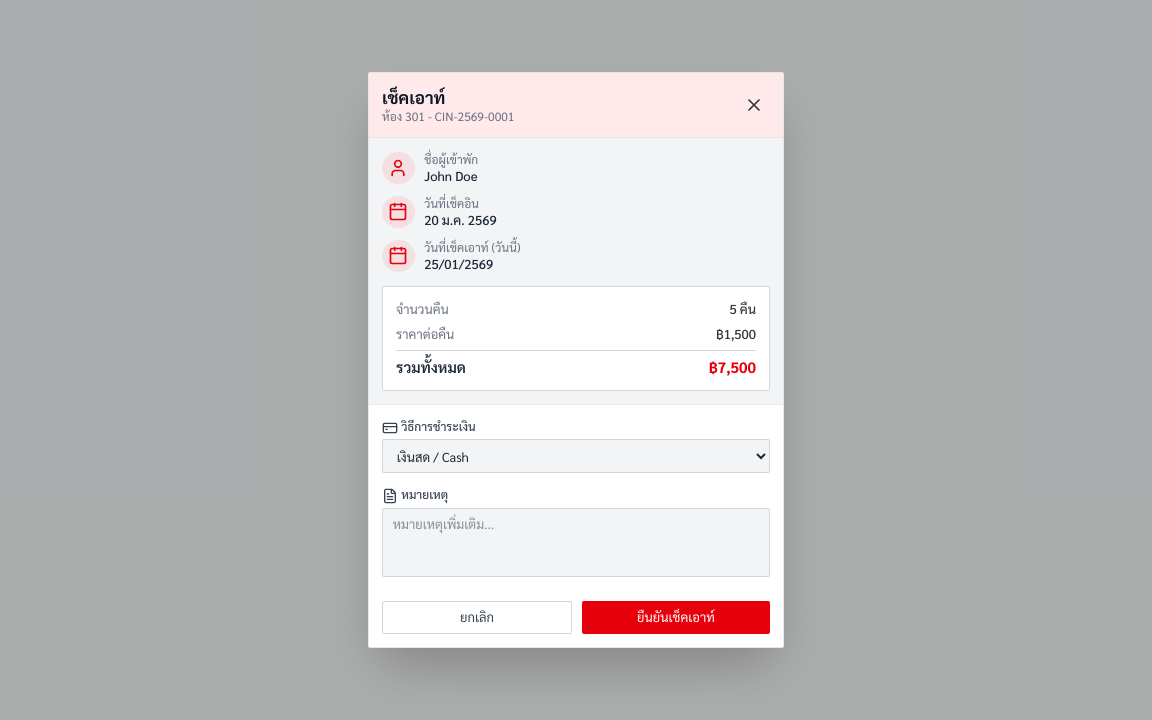
Test case: CheckOutModal Component › API Submission › shows error message on API failure
Click the button "ยืนยันเช็คเอาท์".
click(676, 617)  # box [582, 601, 770, 634]
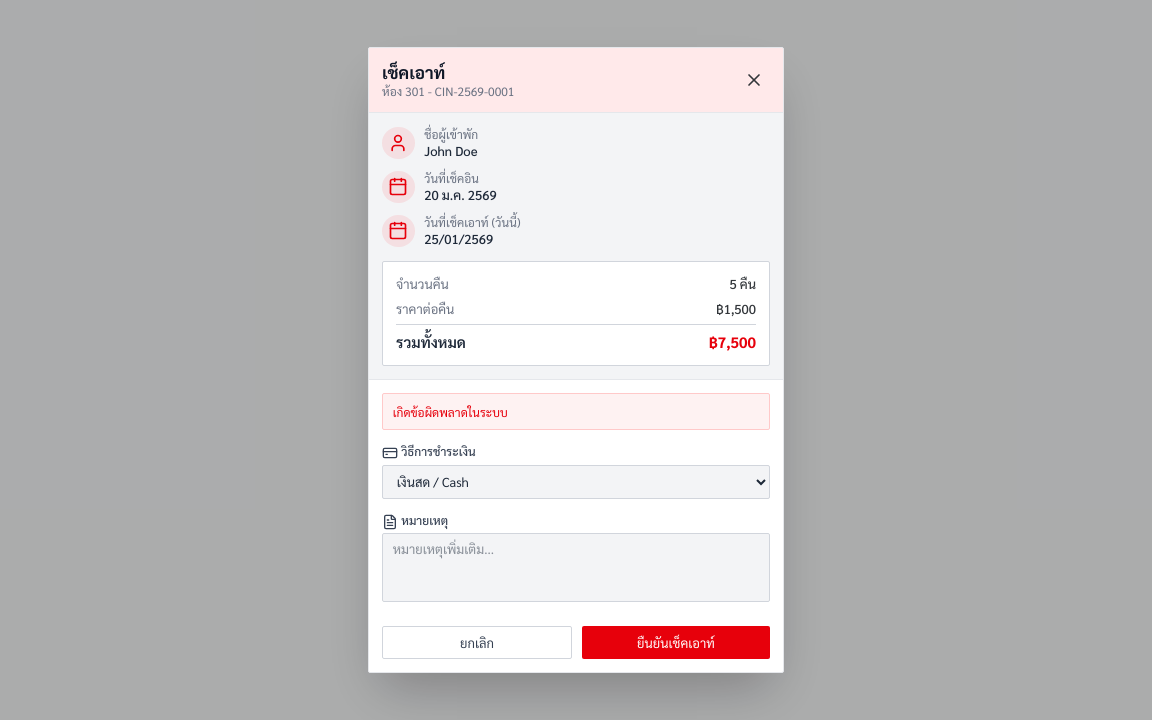
Result: the text "เกิดข้อผิดพลาดในระบบ" is shown at [382, 393, 770, 430]
